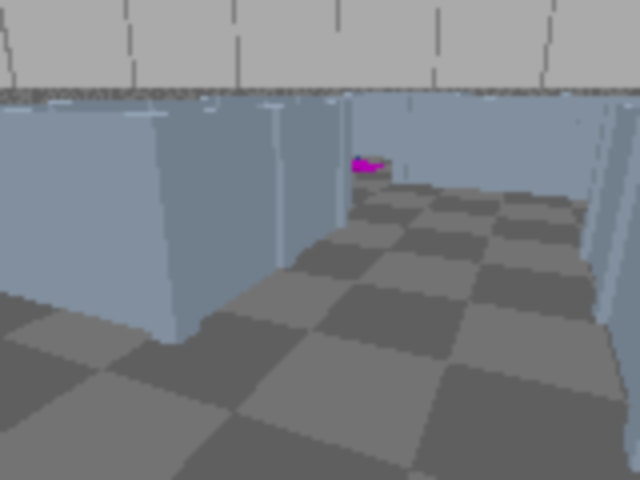goal_zone: (322, 160, 388, 172)
